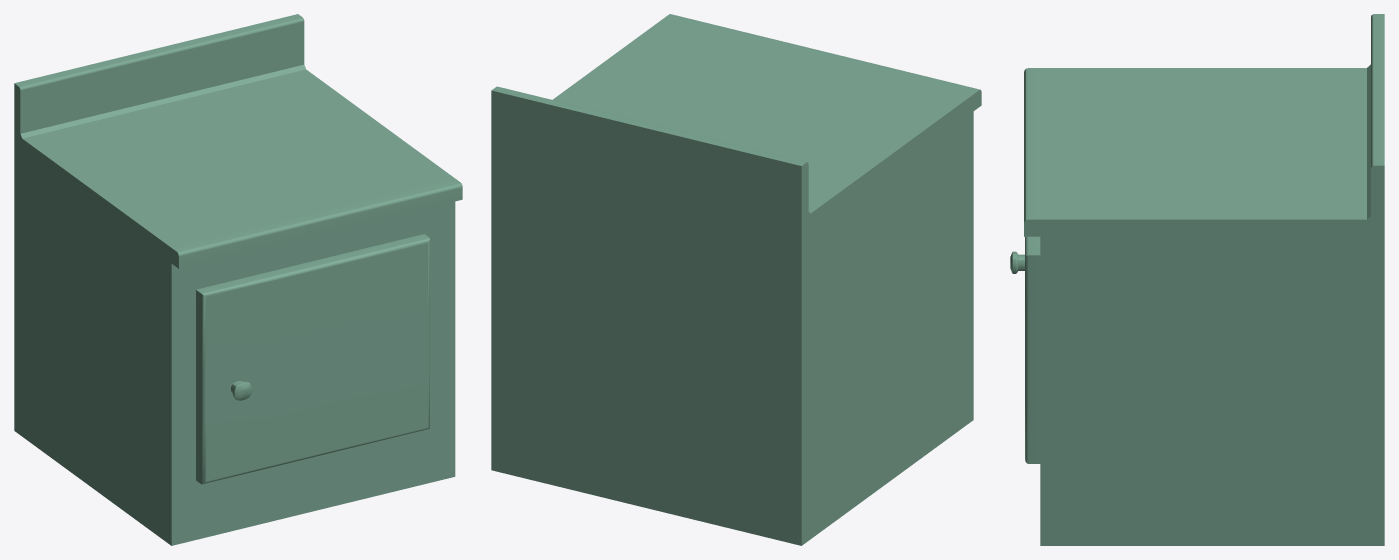
The model's file is CounterMod.fbx.
3 renders of one model, left to right at view 1: azimuth 30°, elevation 25°; view 2: azimuth 150°, elevation 25°; view 3: azimuth 270°, elevation 25°, orthographic. The views are drawn at different scales.
Parts seen in each view (by area): view 1: CounterMod; view 2: CounterMod; view 3: CounterMod.
Part boxes in pixels (x1,y1,x2,y2): CounterMod: (14,14,462,545); CounterMod: (491,14,981,545); CounterMod: (1010,14,1384,545).
Bounding box in the file's own units: 4.98 × 5.83 × 5.2.
